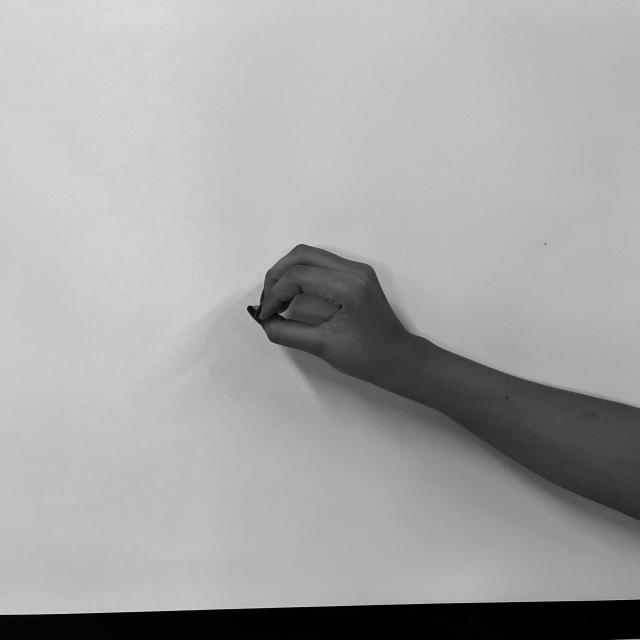Letra O: (242, 238, 411, 386)
